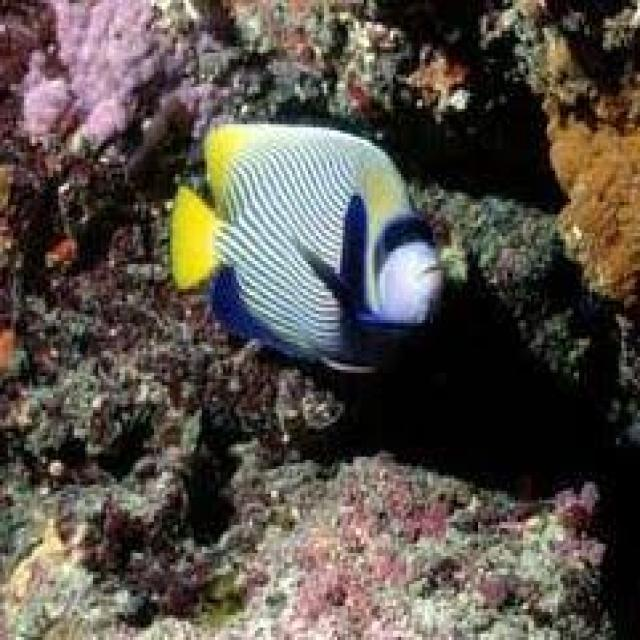AngelFish: (176, 123, 439, 374)
